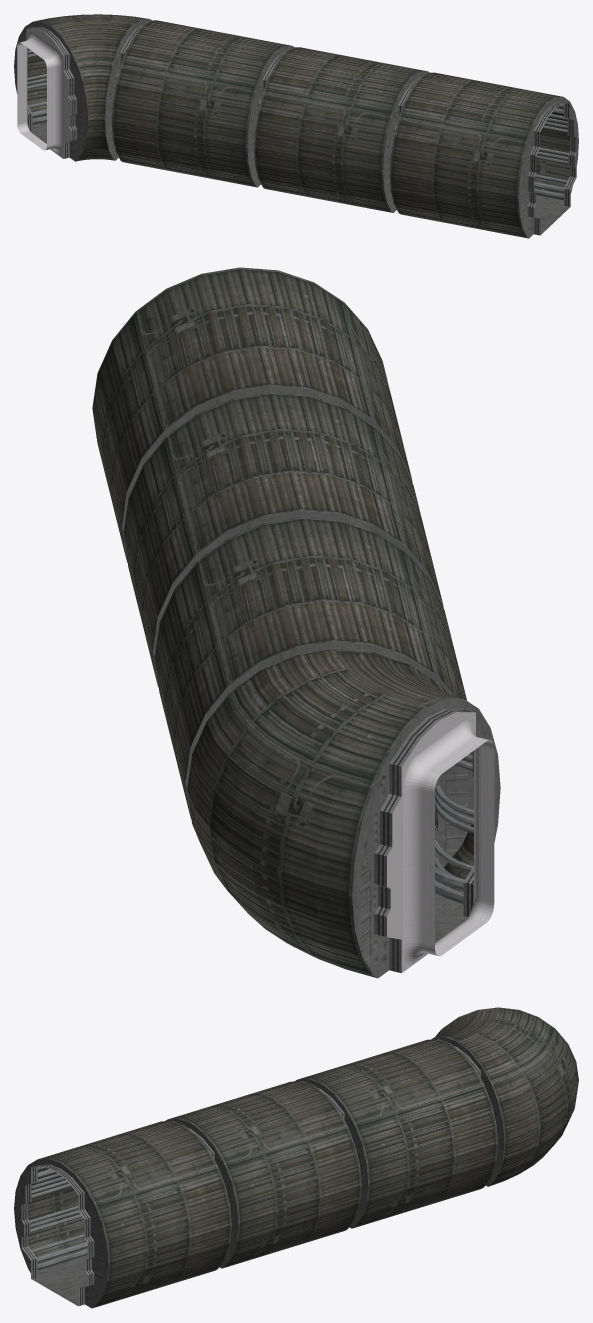
Rendered from thm_spc_corvette_dungeon_r42_penthall42_mesh_r42.fbx.
The picture shows the model from 3 angles, top to bottom: view 1: azimuth 30°, elevation 25°; view 2: azimuth 150°, elevation 25°; view 3: azimuth 270°, elevation 25°; orthographic projection. The views are drawn at different scales.
Visible parts, largest first — view 1: mesh_node; view 2: mesh_node; view 3: mesh_node.
Part boxes in pixels (bbox=[...]): mesh_node: bbox=[14, 14, 578, 238]; mesh_node: bbox=[92, 267, 500, 978]; mesh_node: bbox=[14, 1007, 578, 1308].
Bounding box in the file's own units: 11.4 × 3.5 × 14.08.
